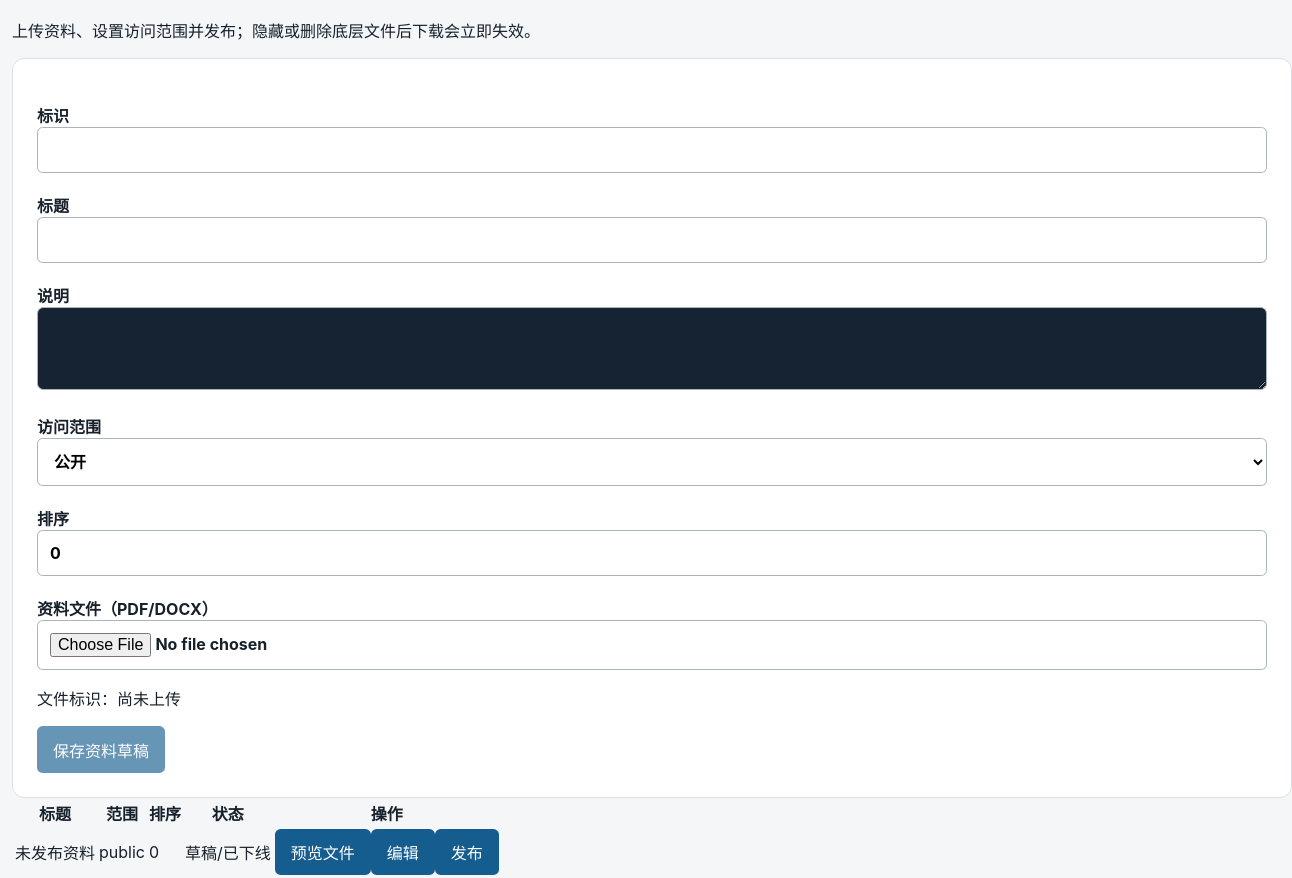
Test case: ResourcesPage preview › reloads the latest resource after a stale 保存 conflict
The image size is (1292, 878).
(page scrolled)
Click the button "编辑" at {"x": 403, "y": 852}, box [371, 829, 435, 875]
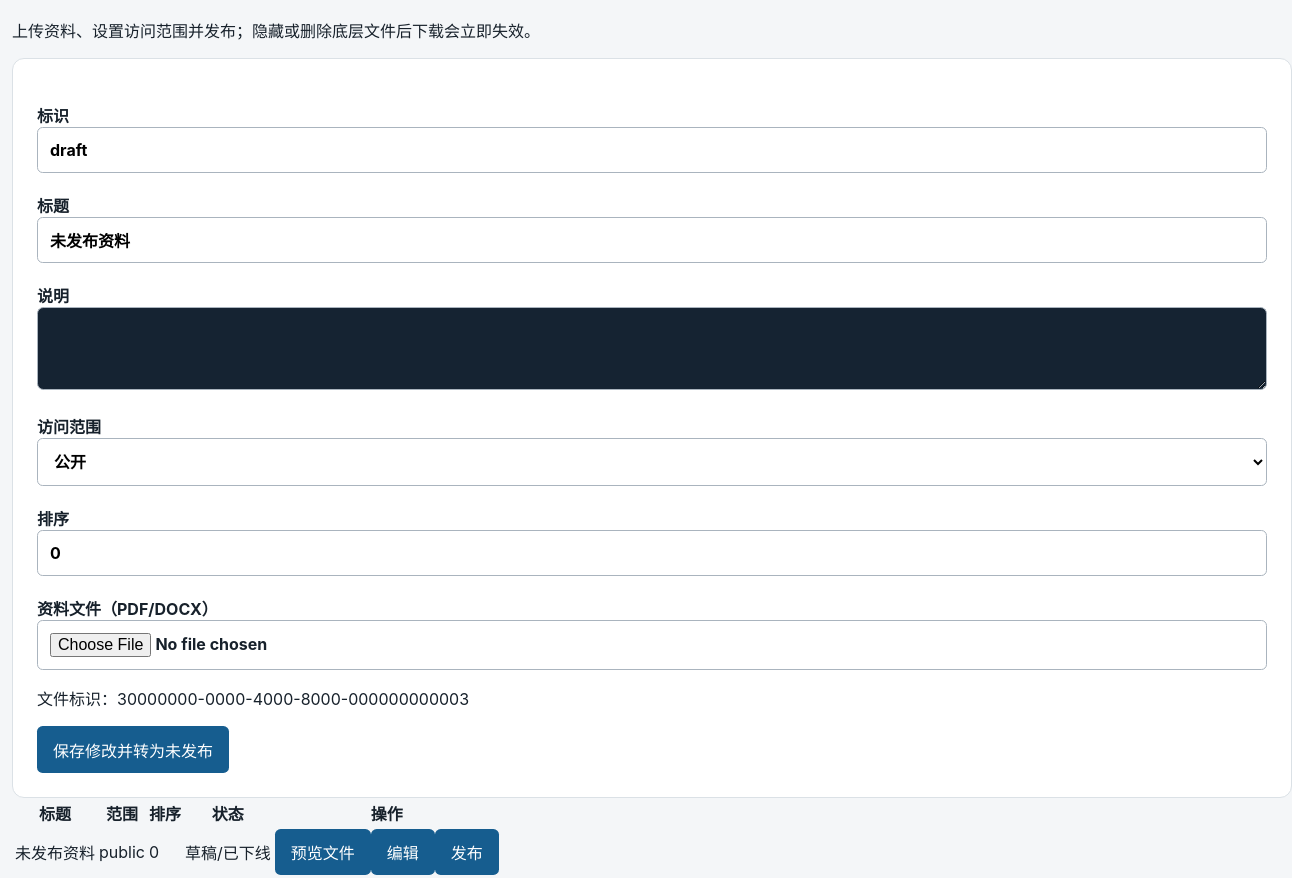
Click the button "保存修改并转为未发布" at {"x": 133, "y": 750}, box [37, 726, 229, 773]
(page scrolled)
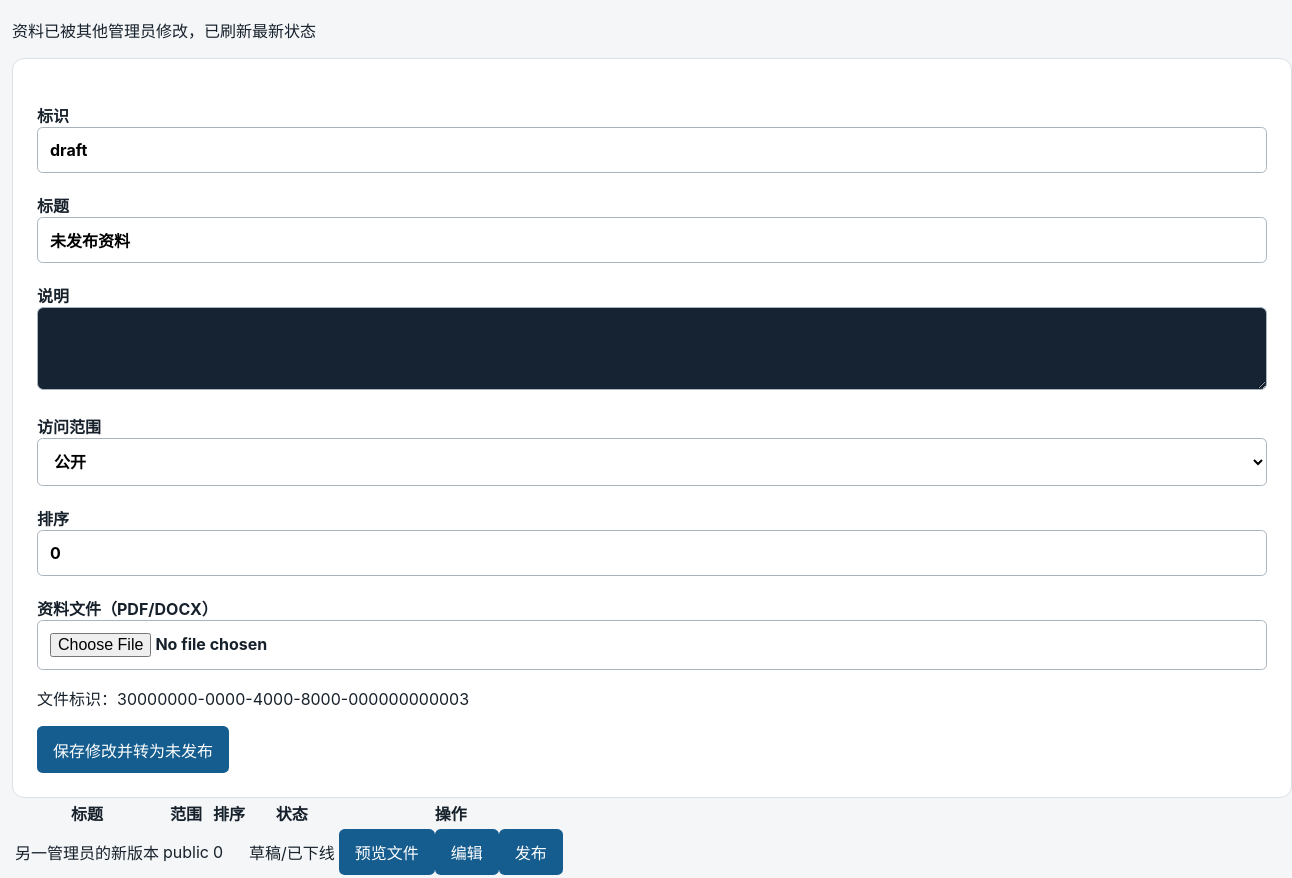
Expected: the message reads "资料已被其他管理员修改，已刷新最新状态", [12, 21, 316, 41]
Expected: the text "另一管理员的新版本" is shown, [14, 828, 160, 876]
